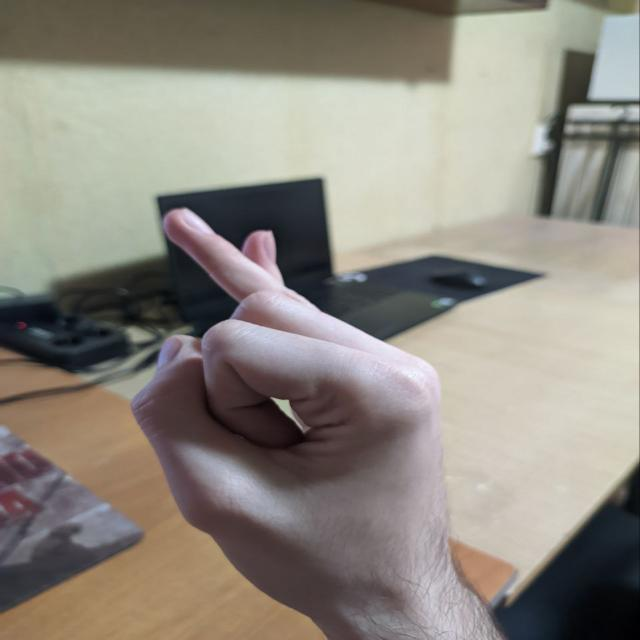i-: (118, 192, 459, 566)
